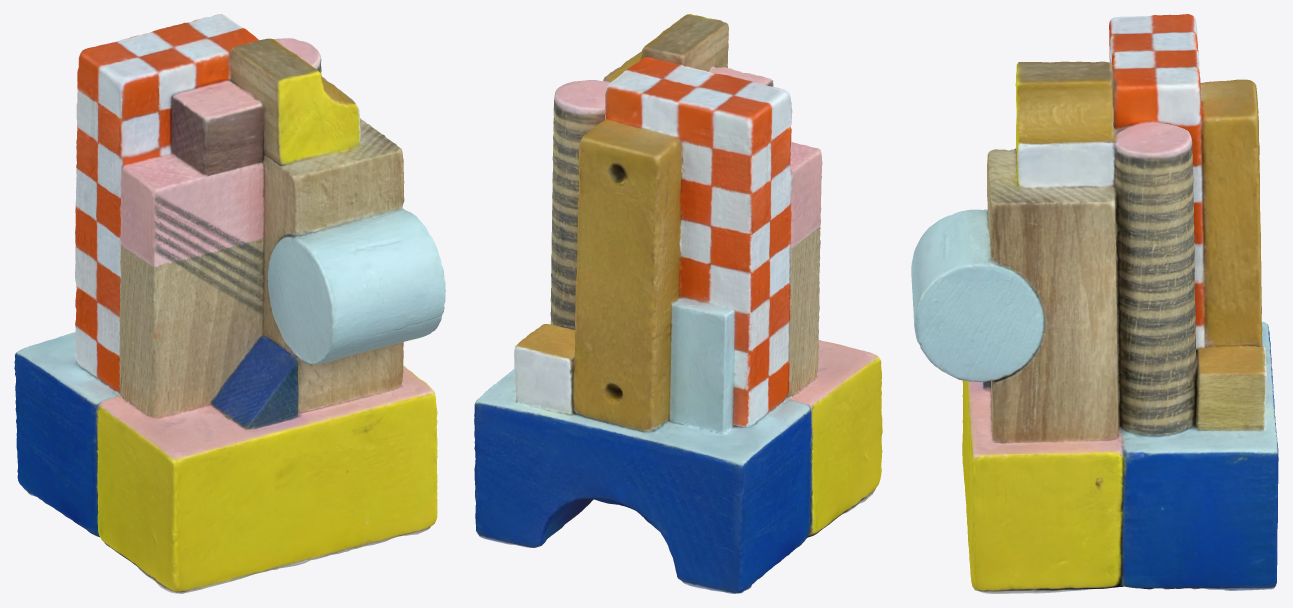
The model's file is Kompleks_01.glb.
The picture shows the model from 3 angles, left to right: view 1: azimuth 30°, elevation 25°; view 2: azimuth 150°, elevation 25°; view 3: azimuth 270°, elevation 25°; orthographic projection. The views are drawn at different scales.
Visible parts, largest first — view 1: Geom; view 2: Geom; view 3: Geom.
Boxes of the visible parts, x1,y1,x2,y2 form: Geom: (14, 14, 445, 593); Geom: (474, 14, 882, 593); Geom: (911, 14, 1278, 593).
Size of the model in its own units: 0.0832 by 0.135 by 0.095.
Materials: 1 (1 with a texture image).
